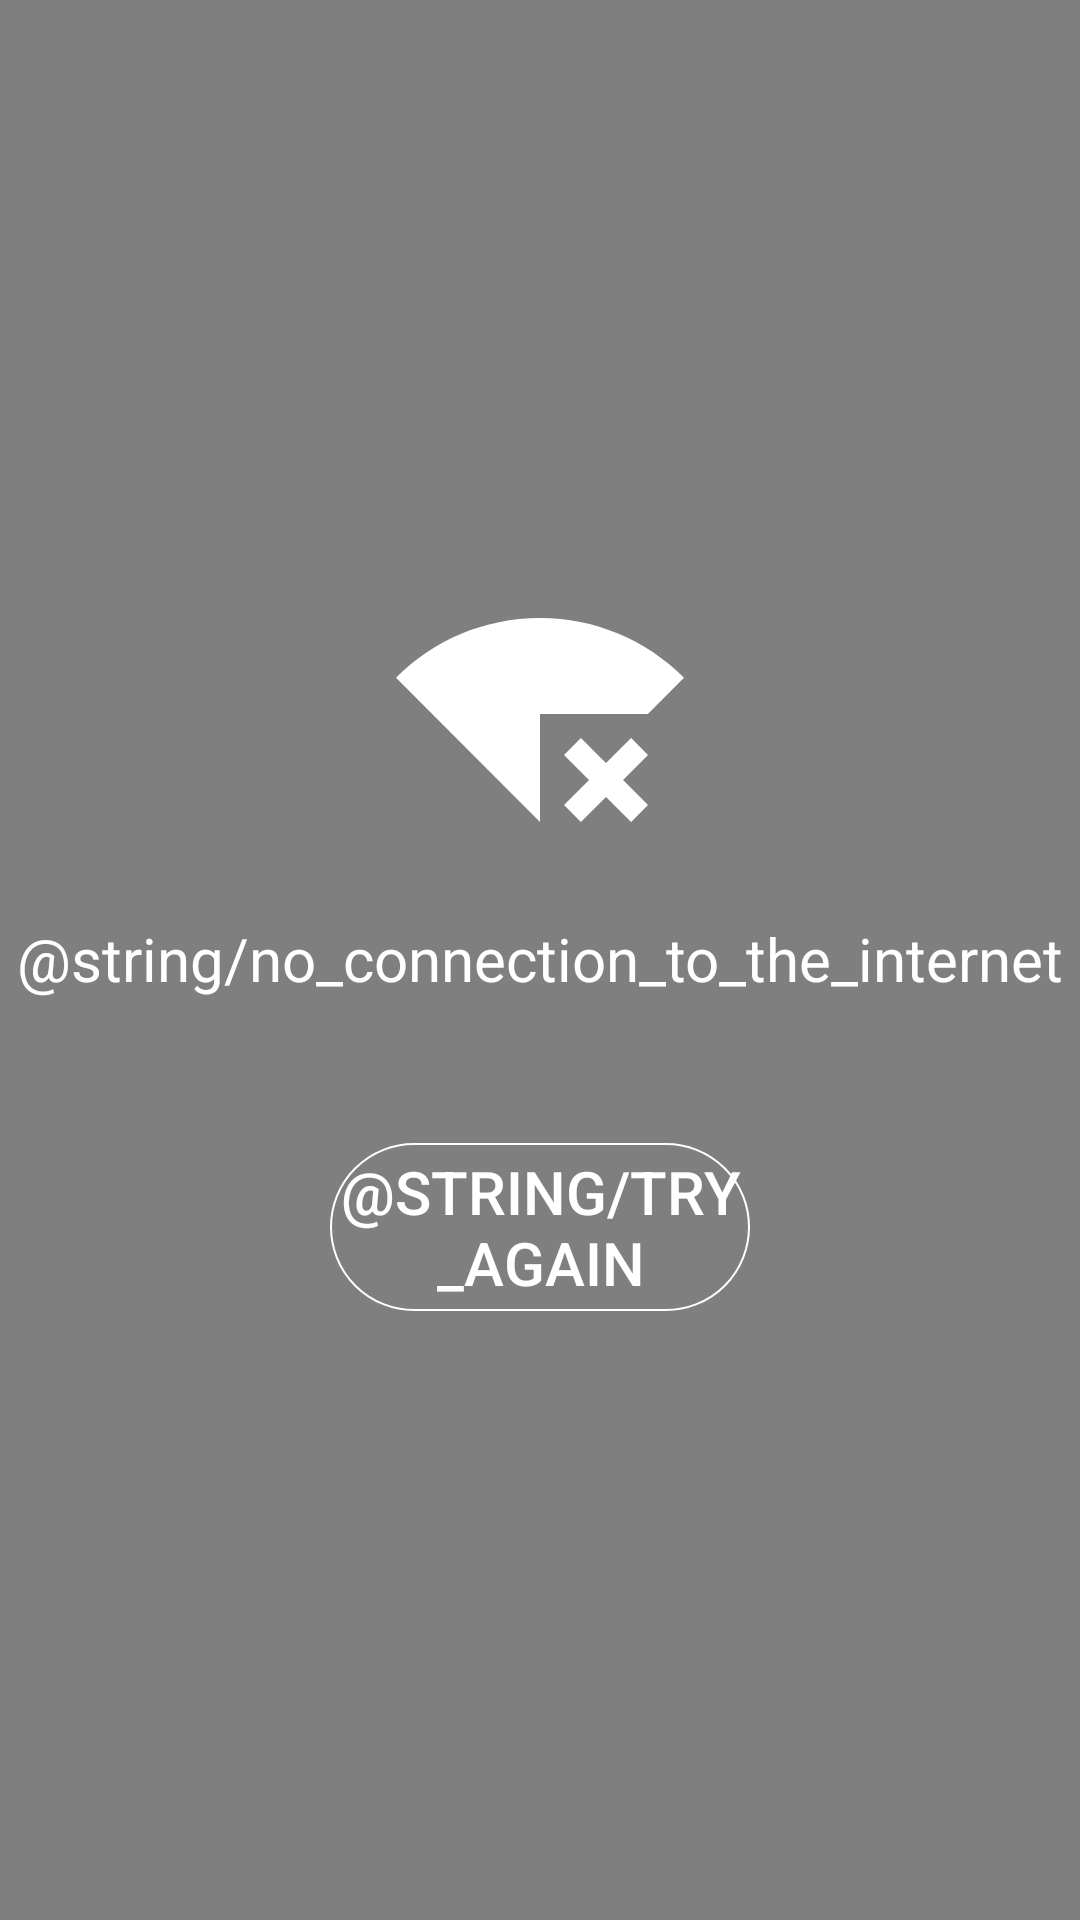

Named icons in this screenshot (1080w x 1920h) and their centers, (x,y):
wifi: (540,720)
